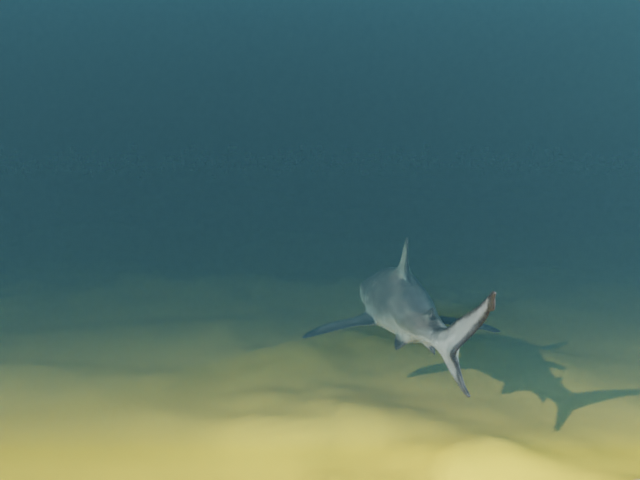Carribean Shark.001: (301, 237, 500, 397)
